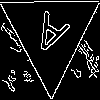A: (25, 9, 71, 66)
